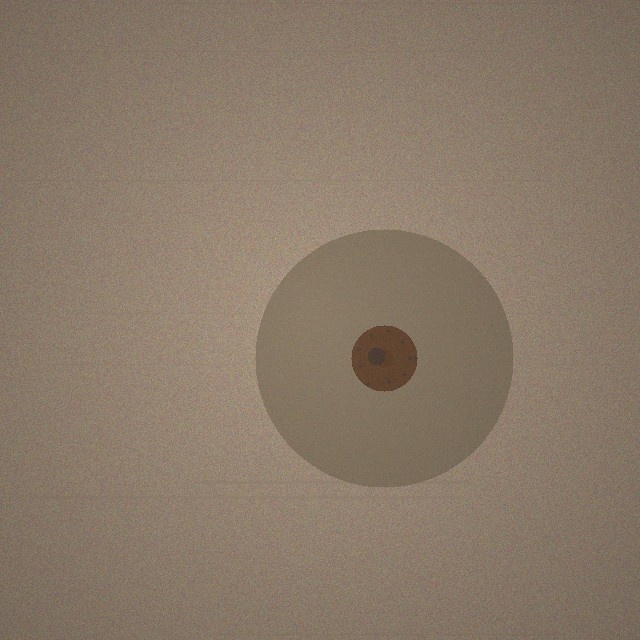cold_weld: (255, 229, 513, 487)
